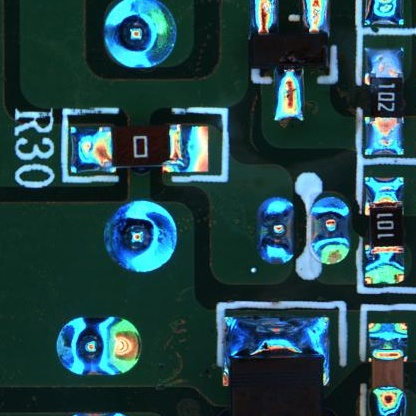spot: (101, 199, 176, 275), (57, 314, 142, 376), (104, 1, 177, 73), (309, 194, 351, 265), (256, 195, 295, 266)
